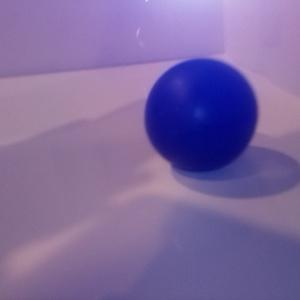dead_ball: (144, 58, 257, 172)
